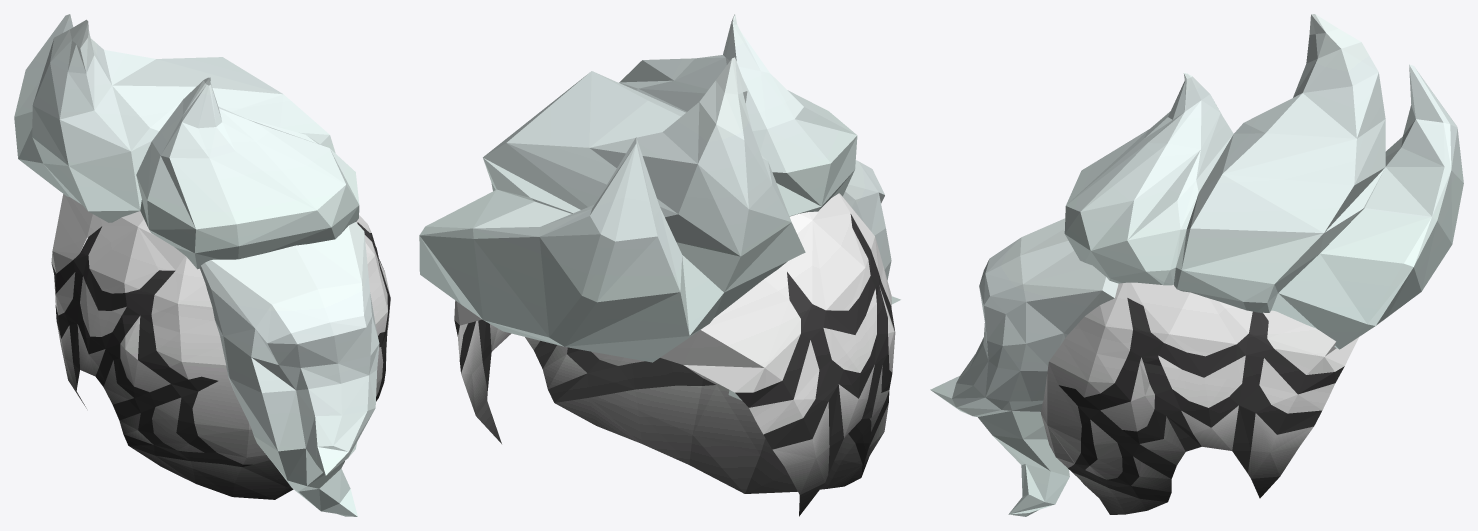
The model's file is CharSkyKid_Hair_Spider_01.glb.
3 renders of one model, left to right at view 1: azimuth 30°, elevation 25°; view 2: azimuth 150°, elevation 25°; view 3: azimuth 270°, elevation 25°, orthographic. The views are drawn at different scales.
Visible parts, largest first — view 1: CharSkyKid_Hair_Spider_01; view 2: CharSkyKid_Hair_Spider_01; view 3: CharSkyKid_Hair_Spider_01.
Part boxes in pixels (left/top/right/bottom): CharSkyKid_Hair_Spider_01: left=14, top=14, right=390, bottom=516; CharSkyKid_Hair_Spider_01: left=419, top=14, right=900, bottom=516; CharSkyKid_Hair_Spider_01: left=930, top=14, right=1463, bottom=516.
Size of the model in its own units: 2.2 by 3.29 by 3.56.
Materials: 1 (1 with a texture image).
